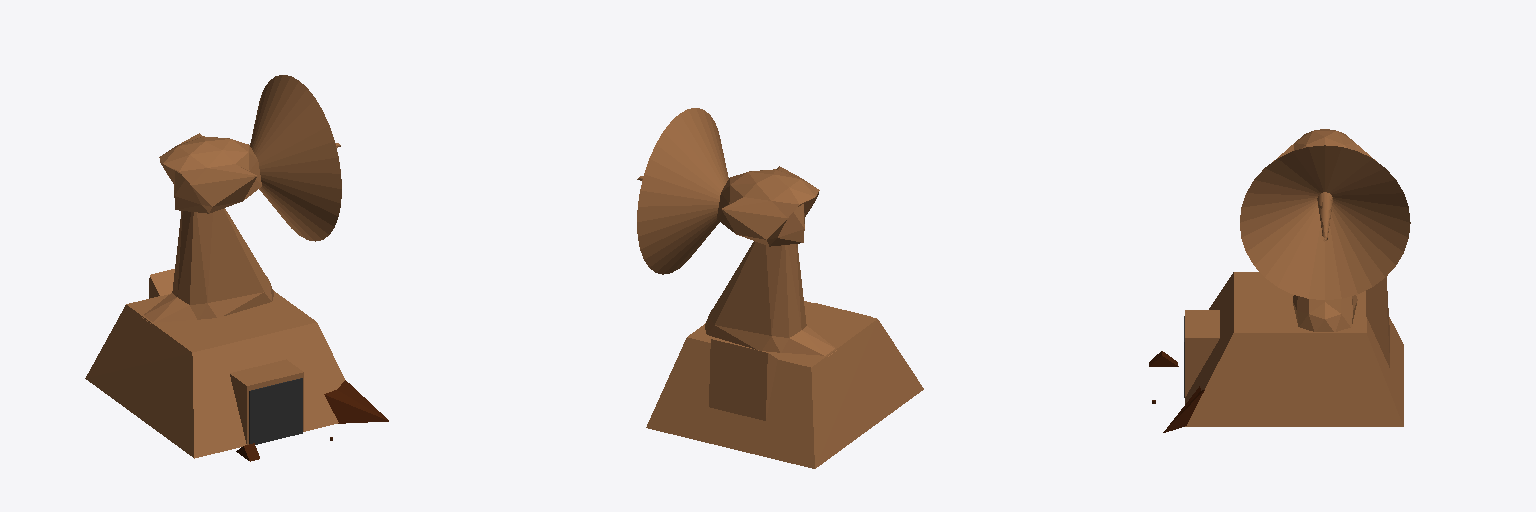
The model's file is dish.obj.
3 renders of one model, left to right at view 1: azimuth 30°, elevation 25°; view 2: azimuth 150°, elevation 25°; view 3: azimuth 270°, elevation 25°, orthographic.
Parts seen in each view (by area): view 1: Cube_Cube.001, Icosphere, Cube.002_Cube.003, Icosphere.001; view 2: Cube_Cube.001, Icosphere; view 3: Cube_Cube.001, Icosphere, Icosphere.001.
Boxes of the visible parts, box(x1,y1,x2,y2) form: Cube_Cube.001: box(85, 269, 344, 458); Icosphere: box(142, 75, 341, 323); Cube.002_Cube.003: box(249, 378, 302, 444); Icosphere.001: box(324, 380, 388, 440); Cube_Cube.001: box(646, 301, 923, 468); Icosphere: box(637, 108, 836, 356); Cube_Cube.001: box(1185, 272, 1403, 426); Icosphere: box(1240, 129, 1410, 331); Icosphere.001: box(1152, 386, 1204, 432).
Size of the model in its own units: 7.64 by 9.57 by 7.93.